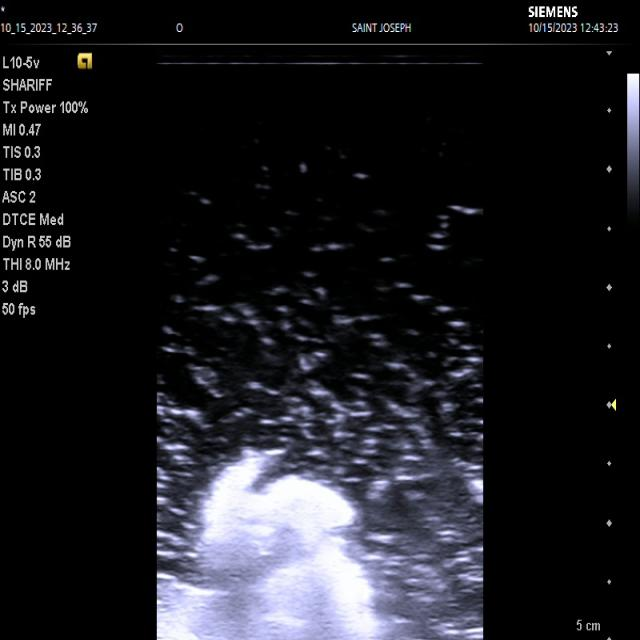tissue: (158, 450, 400, 640)
